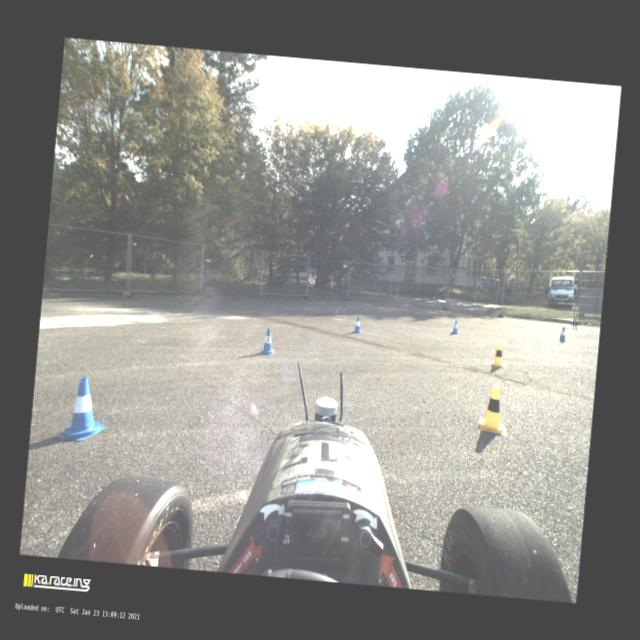blue_cone: (55, 373, 112, 444), (258, 326, 276, 356), (351, 314, 363, 333), (558, 324, 568, 342), (450, 318, 460, 335)
yellow_cone: (476, 381, 512, 437), (488, 341, 508, 368)
